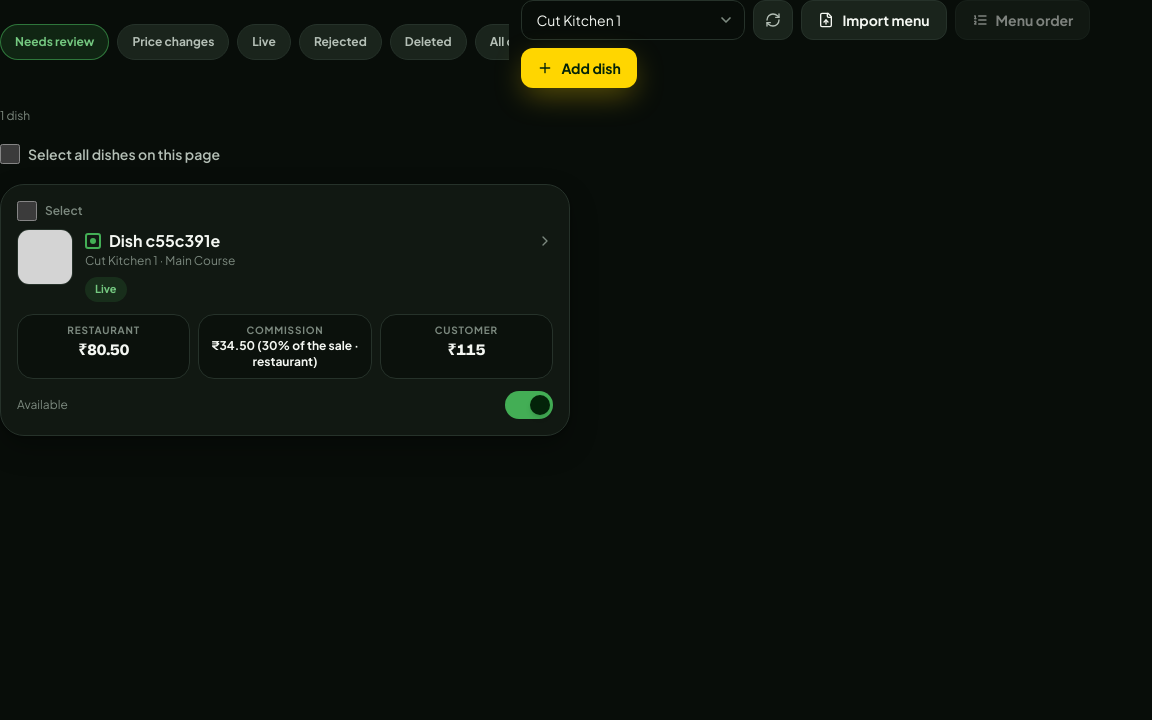
Test case: Catalog: Cut from sale wording and the Menu order button (Docs/26) › Menu order needs one restaurant; it opens the panel for that restaurant, and a save reloads the list
This screenshot has width=1152, height=720.
Expected: the button "Menu order" is disabled, [955, 0, 1090, 40]
Select "Cut Kitchen 1" in the dropdown with id "catalog-vendor-filter": (633, 20) [521, 0, 745, 40]
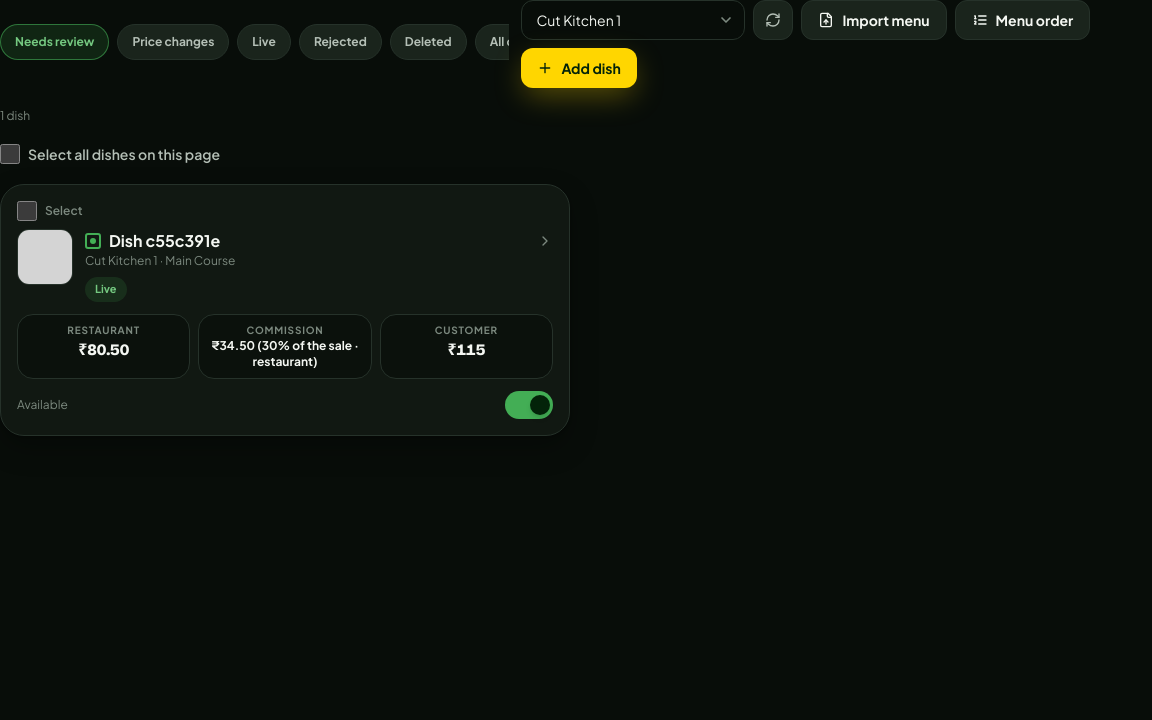
Now the button "Menu order" is enabled
Click the button "Menu order": (1022, 20) [955, 0, 1090, 40]
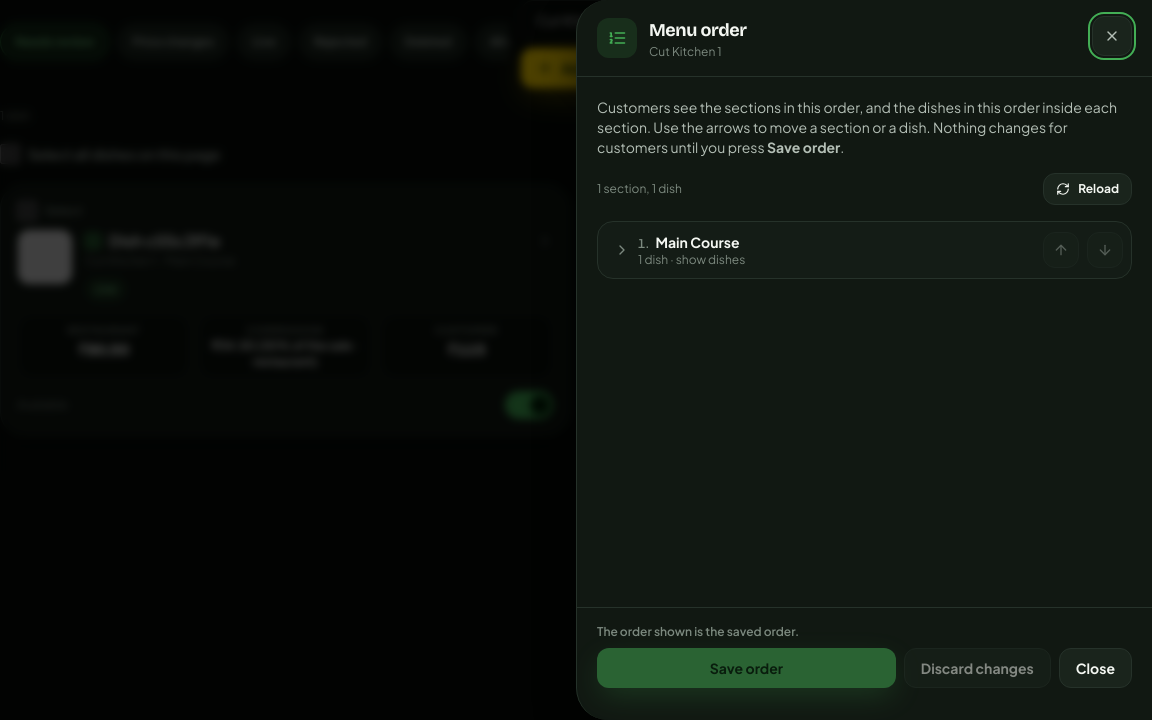
Now the dialog shows "Cut Kitchen 1", box [649, 44, 722, 59]
Now the dialog shows "1 section, 1 dish", box [576, 0, 1151, 719]
Click the button "Close": (1095, 668) [1059, 648, 1132, 688]
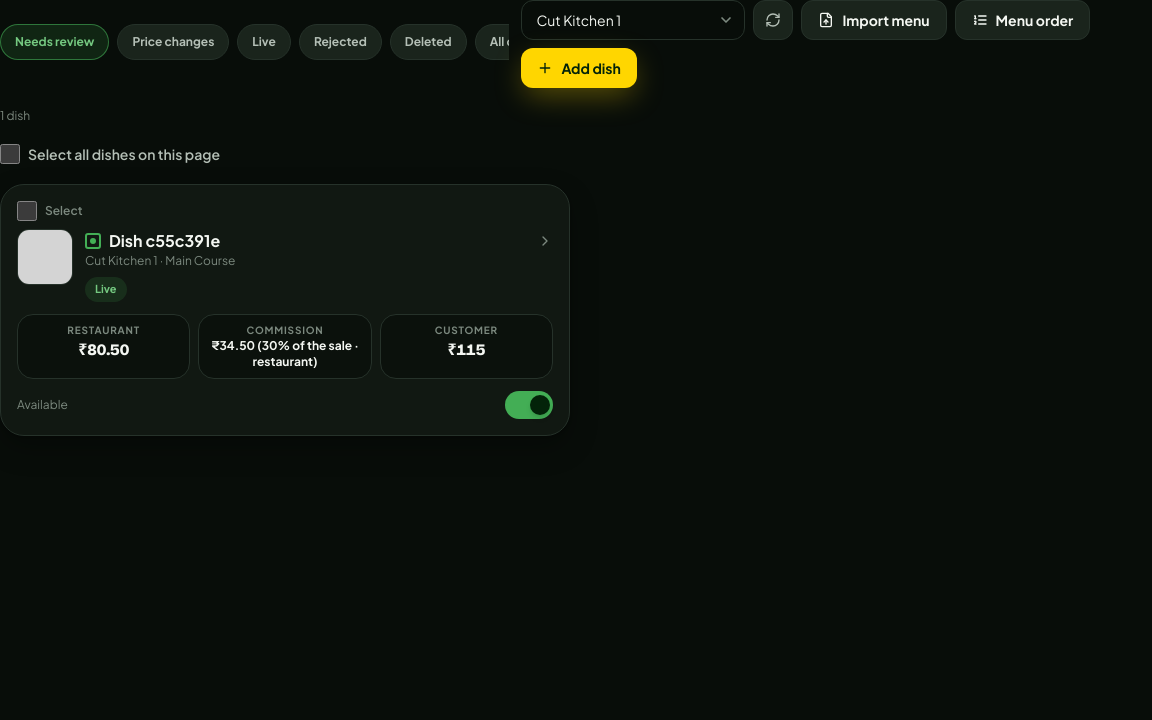
Now the dialog is gone
